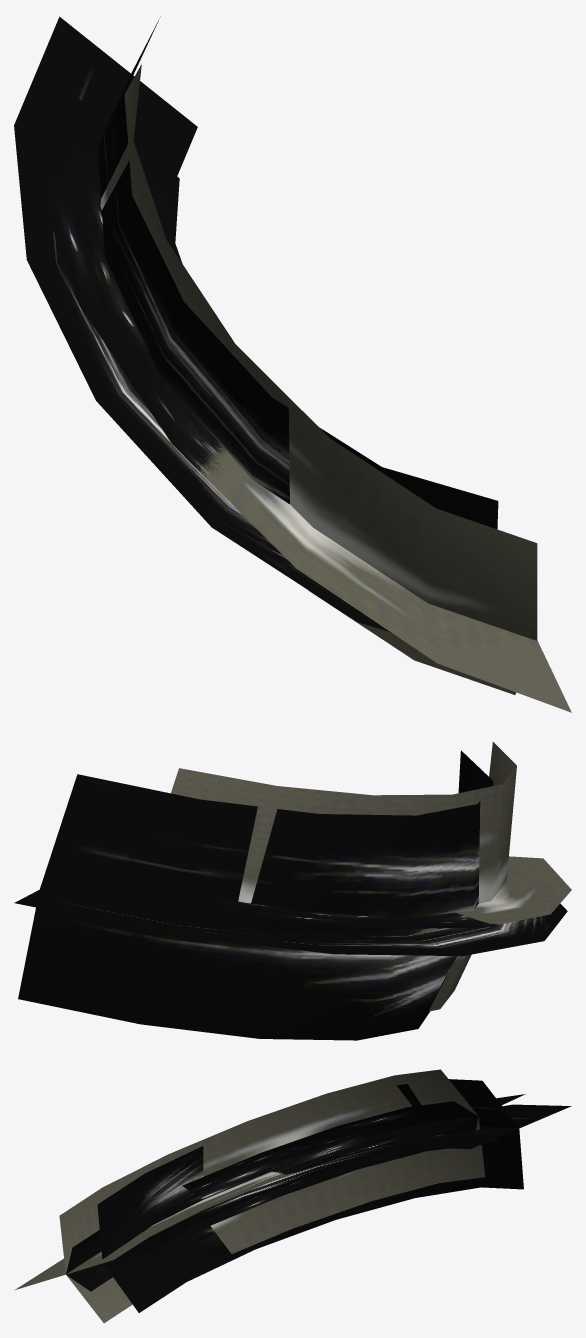
The model's file is Effect_1001tskill01.fbx.
The picture shows the model from 3 angles, top to bottom: view 1: azimuth 30°, elevation 25°; view 2: azimuth 150°, elevation 25°; view 3: azimuth 270°, elevation 25°; orthographic projection. The views are drawn at different scales.
Visible parts, largest first — view 1: Effect_1001tattack01, Effect_1001tattack03, Effect_1001tattack02; view 2: Effect_1001tattack03, Effect_1001tattack01, Effect_1001tattack02; view 3: Effect_1001tattack01, Effect_1001tattack03, Effect_1001tattack02.
Part boxes in pixels (x1=…): Effect_1001tattack01: x1=100, y1=64, x2=571, y2=712; Effect_1001tattack03: x1=14, y1=16, x2=498, y2=632; Effect_1001tattack02: x1=34, y1=69, x2=227, y2=476; Effect_1001tattack03: x1=14, y1=750, x2=567, y2=1040; Effect_1001tattack01: x1=171, y1=742, x2=571, y2=1011; Effect_1001tattack02: x1=122, y1=884, x2=498, y2=928; Effect_1001tattack01: x1=14, y1=1069, x2=485, y2=1323; Effect_1001tattack03: x1=97, y1=1079, x2=571, y2=1312; Effect_1001tattack02: x1=66, y1=1094, x2=525, y2=1291.
Size of the model in its own units: 1.18 by 2.05 by 4.31.
Materials: 3 (3 with a texture image).
